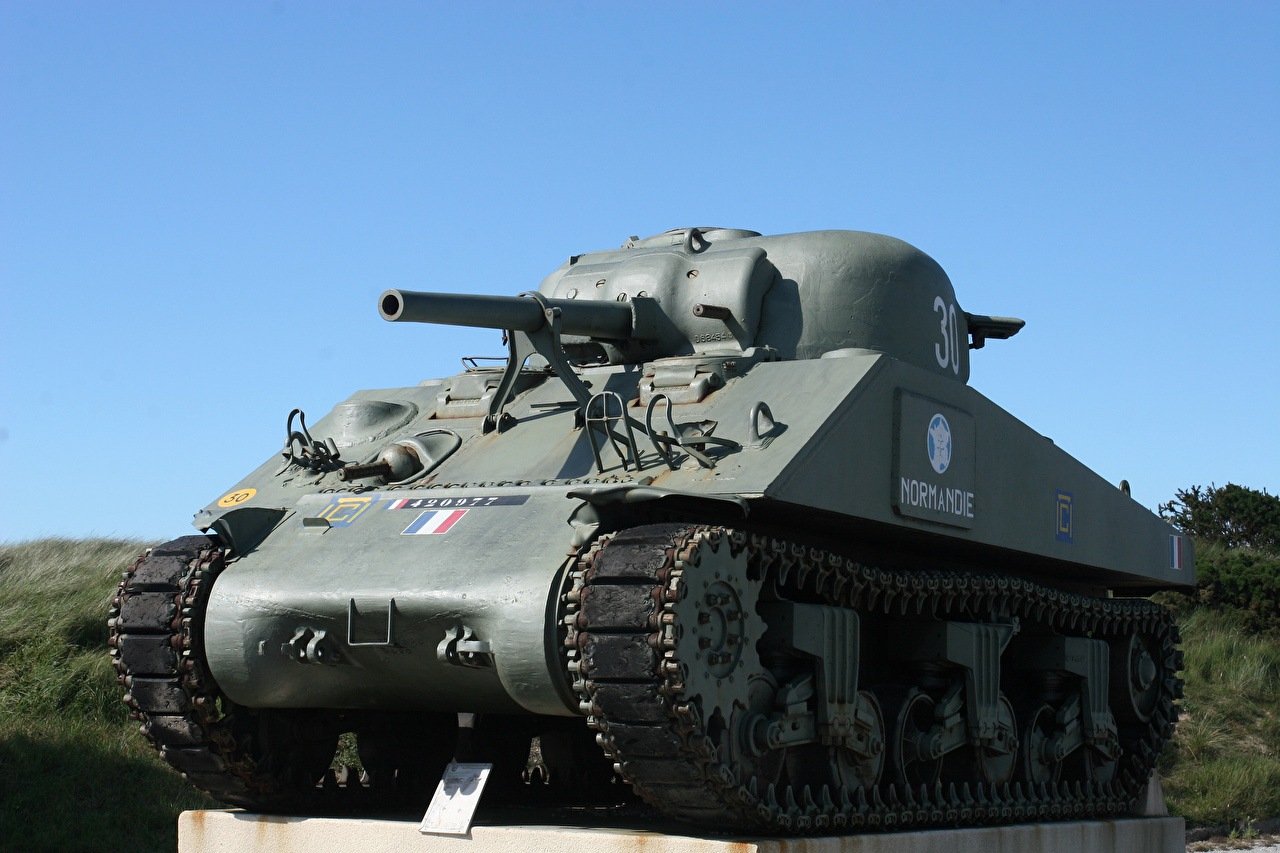human: (266, 96, 422, 304)
pilot: (478, 51, 639, 231), (779, 275, 918, 379)
warauto: (49, 249, 1198, 811)
